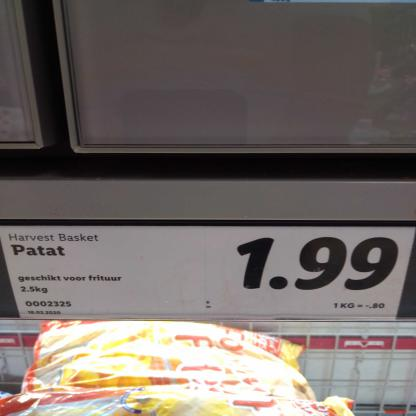prtg: (1, 226, 416, 323)
